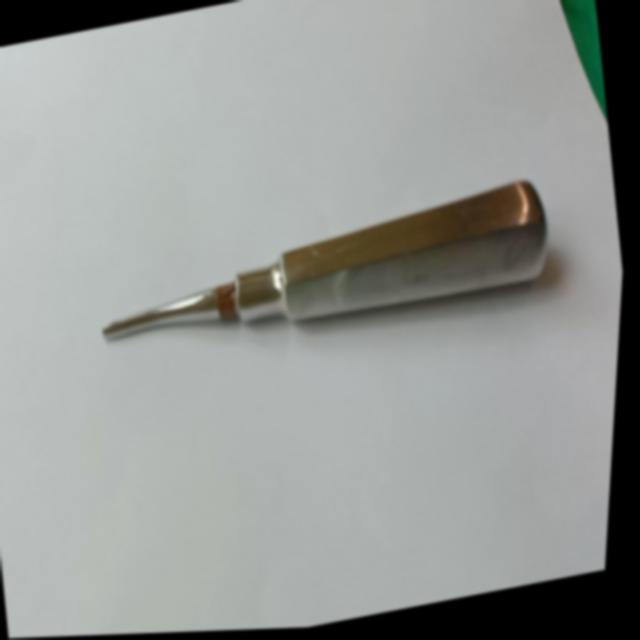Coupland1: (87, 170, 568, 381)
